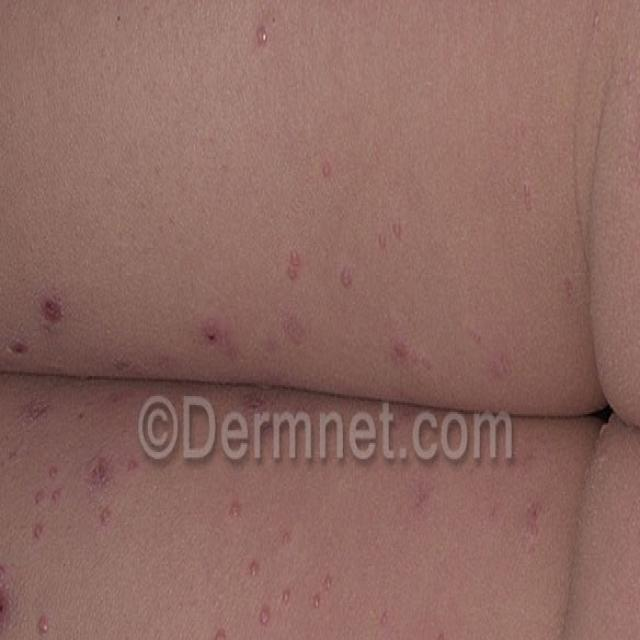Viral Infections: (0, 403, 129, 640), (183, 481, 374, 640), (183, 303, 438, 386), (274, 233, 386, 301), (0, 273, 80, 363), (234, 9, 294, 88), (515, 488, 552, 540), (308, 147, 344, 192), (632, 94, 640, 208)
